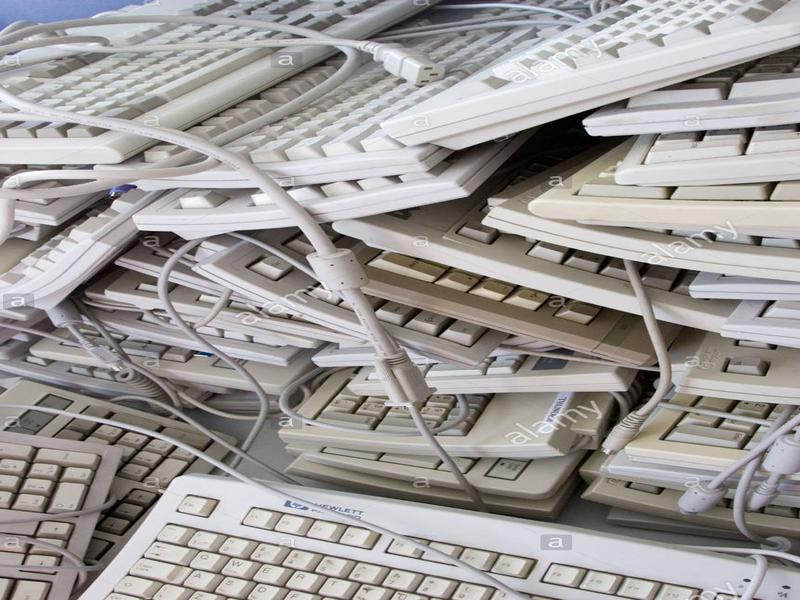keyboard: (280, 215, 800, 477), (87, 475, 800, 600), (1, 1, 431, 174), (377, 2, 800, 152), (1, 421, 125, 600)
